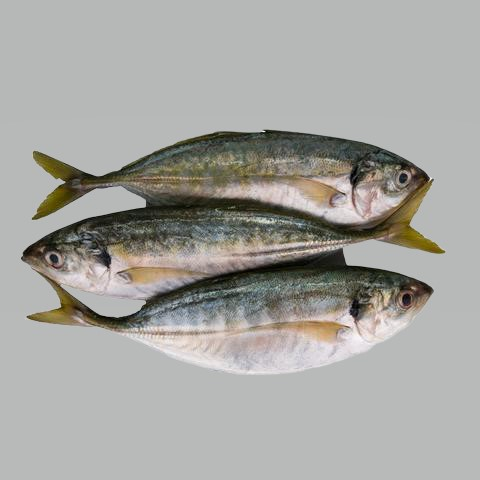Ikan Selar: (33, 108, 431, 228), (28, 265, 441, 375), (17, 208, 409, 298)
